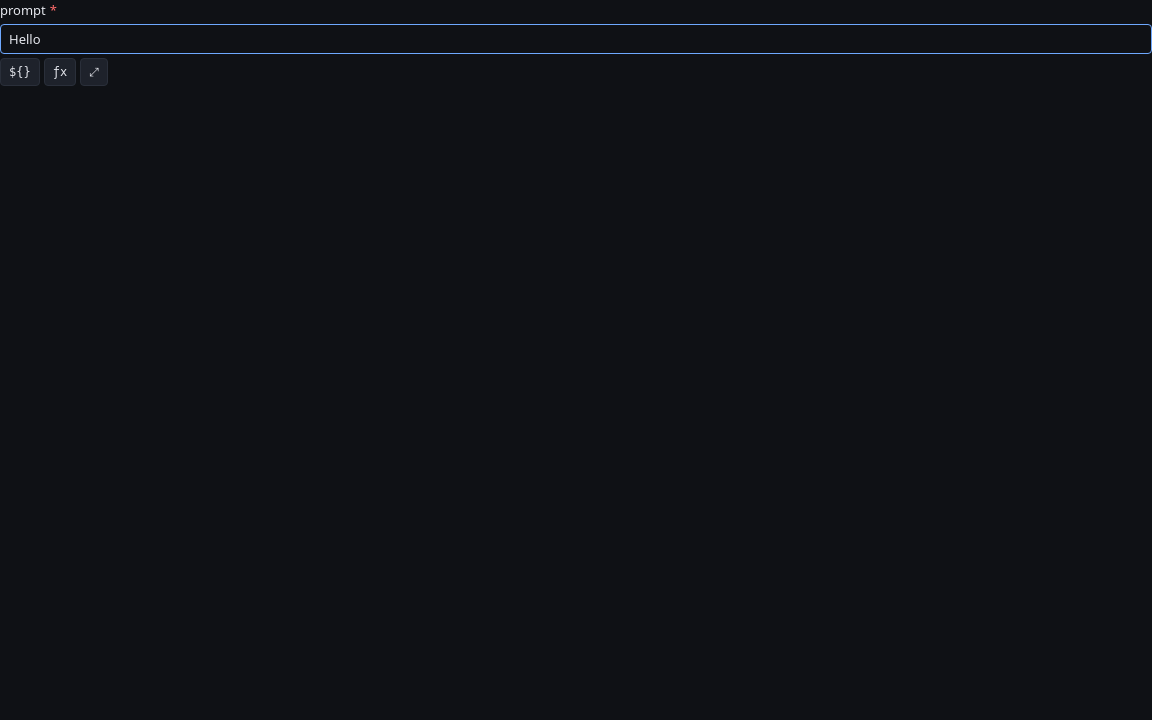
Scenario: ExpressionEditor — ⤢ on a config field (#1694 OR42 F10) › an Escape the flyout takes closes its list, not the editor
Click the button named "in the editor". click: [94, 72]
box: top-left (80, 58), bottom-right (108, 86)
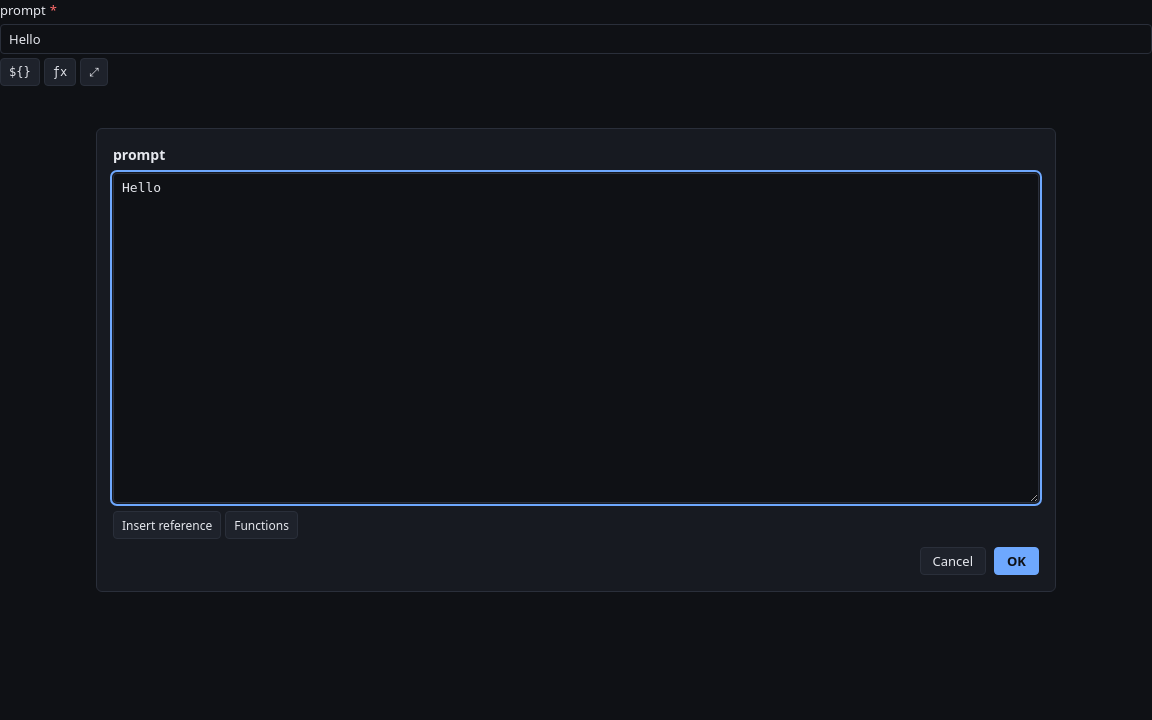
Click the button with aria-label "Insert reference into prompt". click: [167, 525]
box: top-left (113, 511), bottom-right (221, 539)
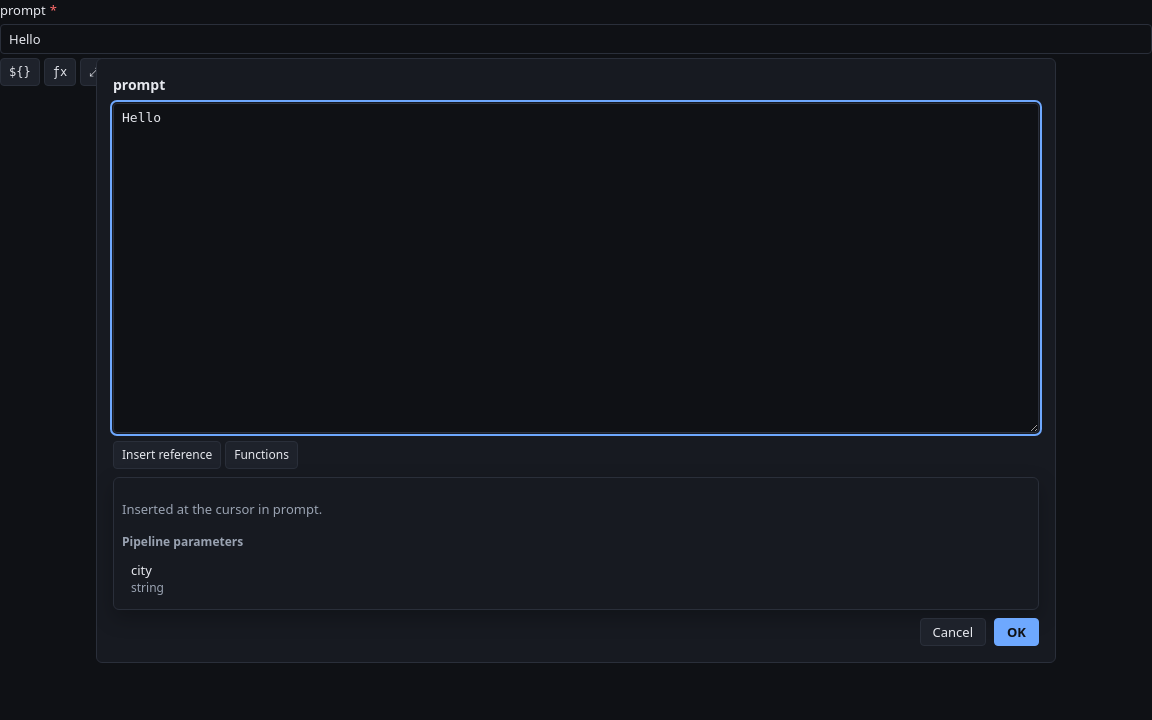
Check: the button with aria-label "Insert reference into prompt" is expanded
Press Escape in the button with aria-label "Insert reference into prompt", box top-left (113, 440), bottom-right (221, 468)
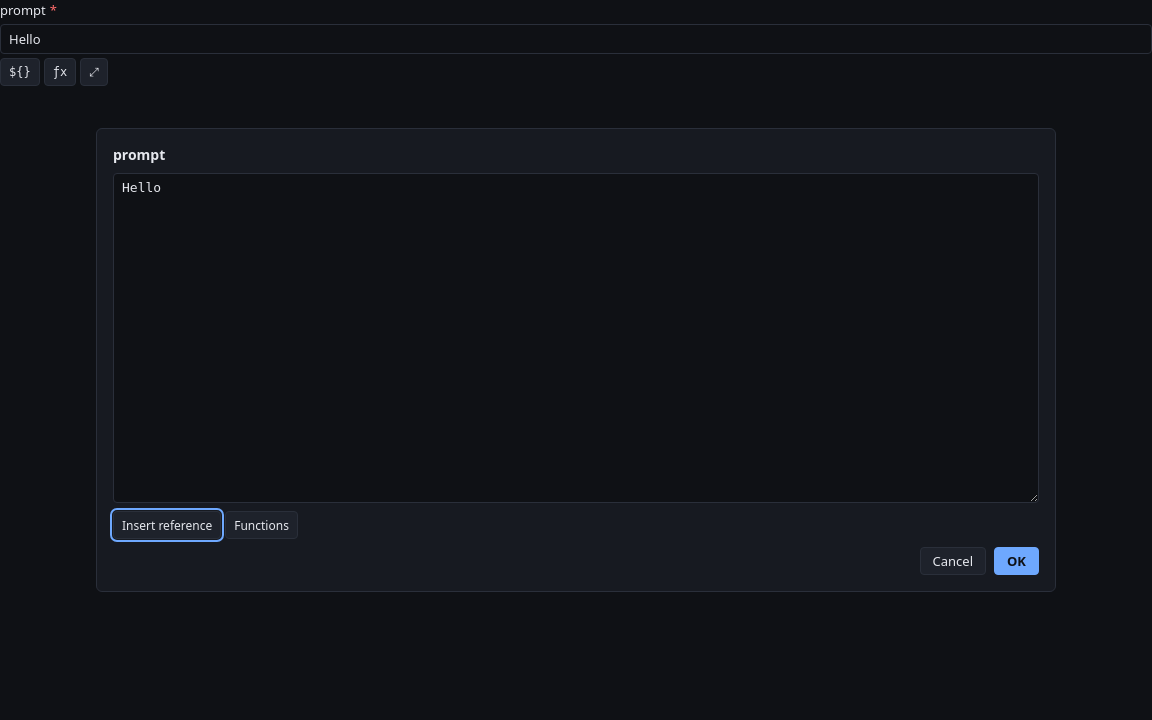
Check: the dialog "prompt" is shown, box top-left (96, 128), bottom-right (1056, 592)
Check: the button with aria-label "Insert reference into prompt" is collapsed, box top-left (113, 511), bottom-right (221, 539)
